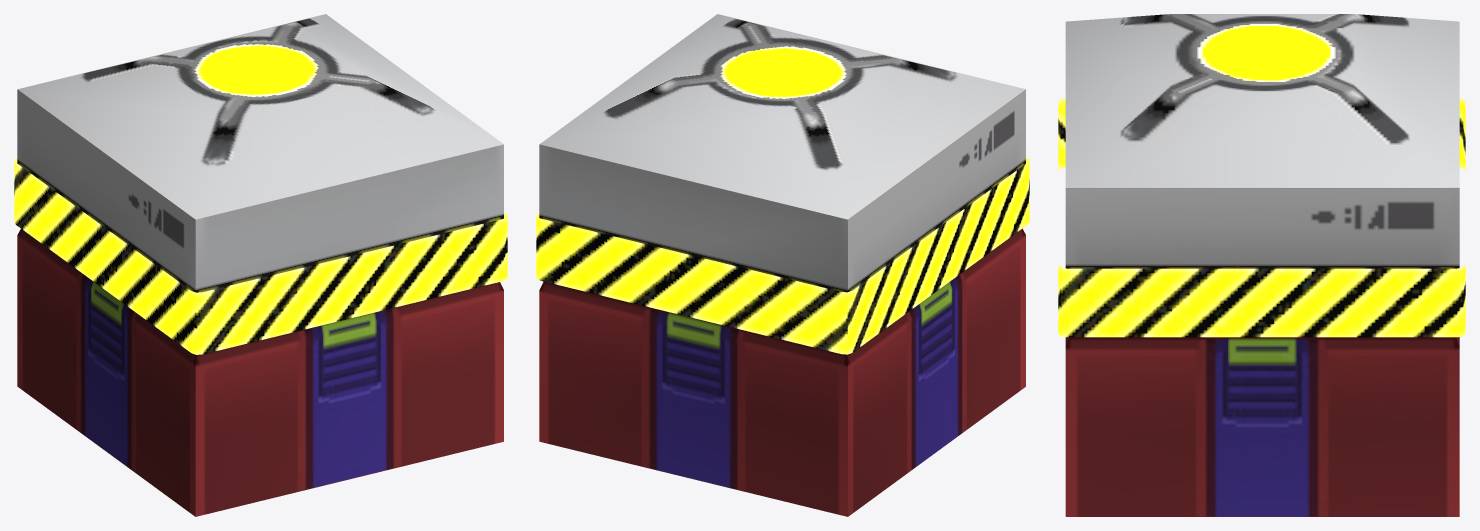
Rendered from LootBox1.glb.
3 renders of one model, left to right at view 1: azimuth 30°, elevation 25°; view 2: azimuth 150°, elevation 25°; view 3: azimuth 270°, elevation 25°, orthographic. The views are drawn at different scales.
Parts seen in each view (by area): view 1: Plane.001; view 2: Plane.001; view 3: Plane.001.
Part boxes in pixels (x1,y1,x2,y2): Plane.001: (14, 14, 507, 516); Plane.001: (536, 14, 1029, 516); Plane.001: (1058, 14, 1465, 516).
Bounding box in the file's own units: 1.02 × 1.06 × 1.03.
Materials: 1 (1 with a texture image).
